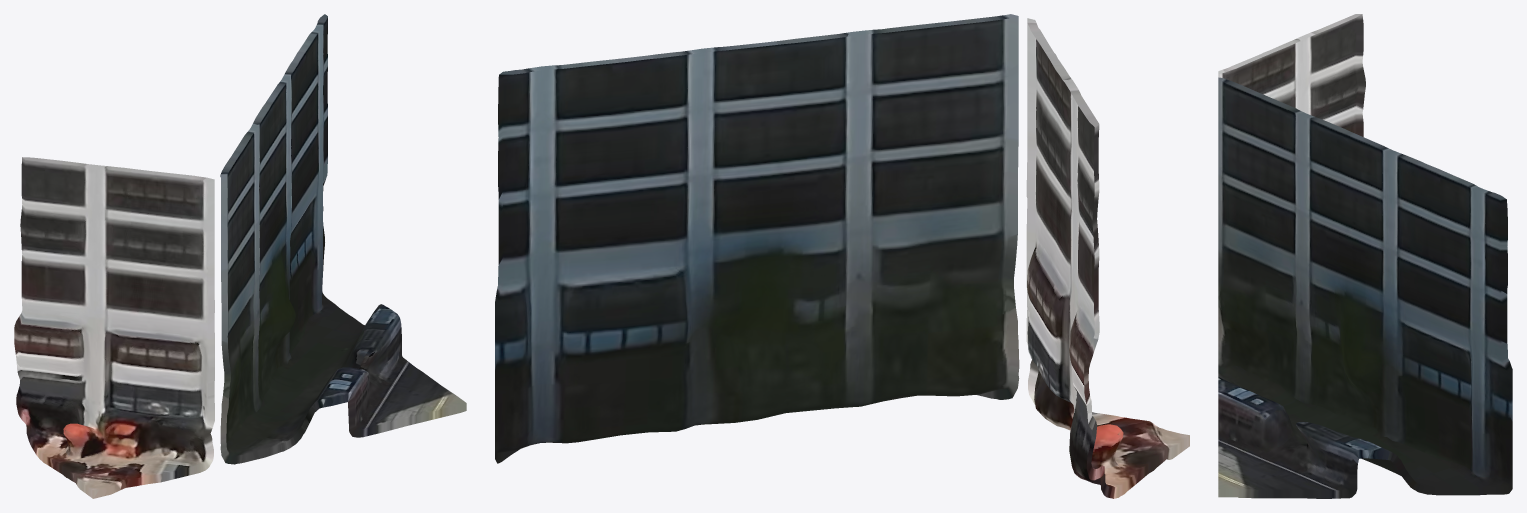
The model's file is z20-167790-405228-h0-yup-uvflip-v3-world.glb.
The picture shows the model from 3 angles, left to right: view 1: azimuth 30°, elevation 25°; view 2: azimuth 150°, elevation 25°; view 3: azimuth 270°, elevation 25°; orthographic projection. The views are drawn at different scales.
Bounding box in the file's own units: 30.16 × 22.72 × 20.24.
Materials: 1 (1 with a texture image).
